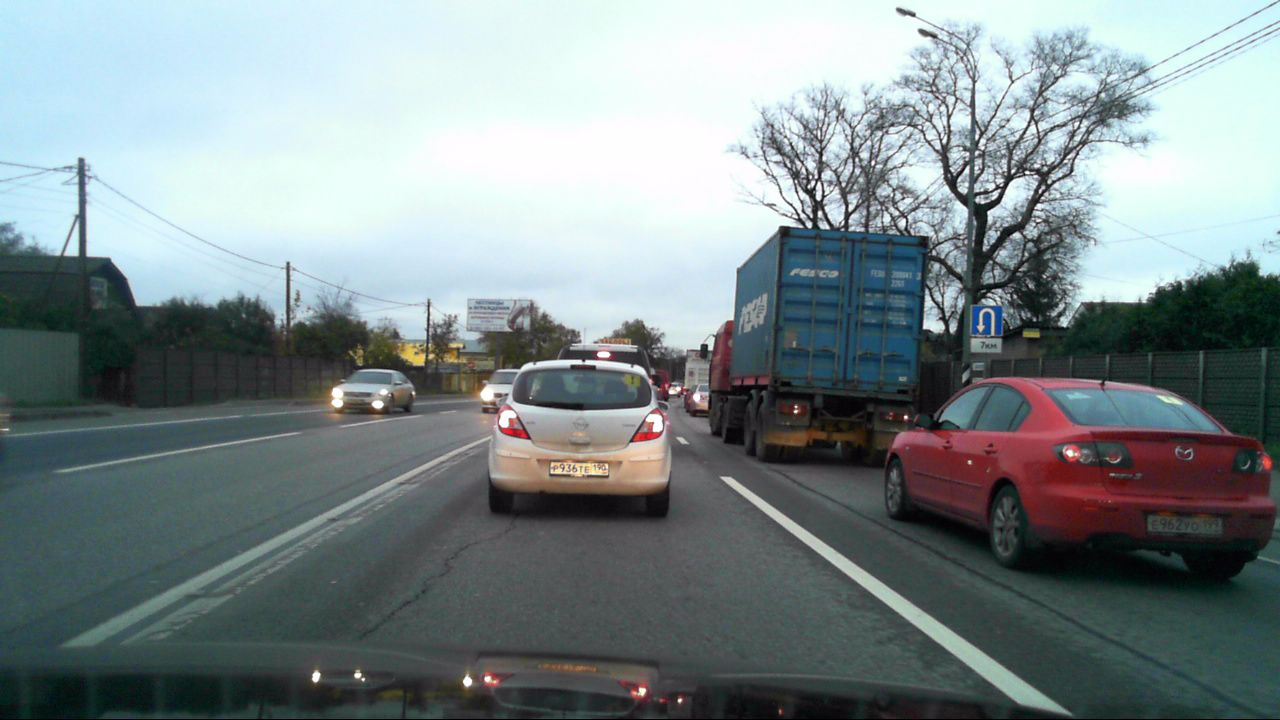U-turn: (970, 305, 1002, 337)
